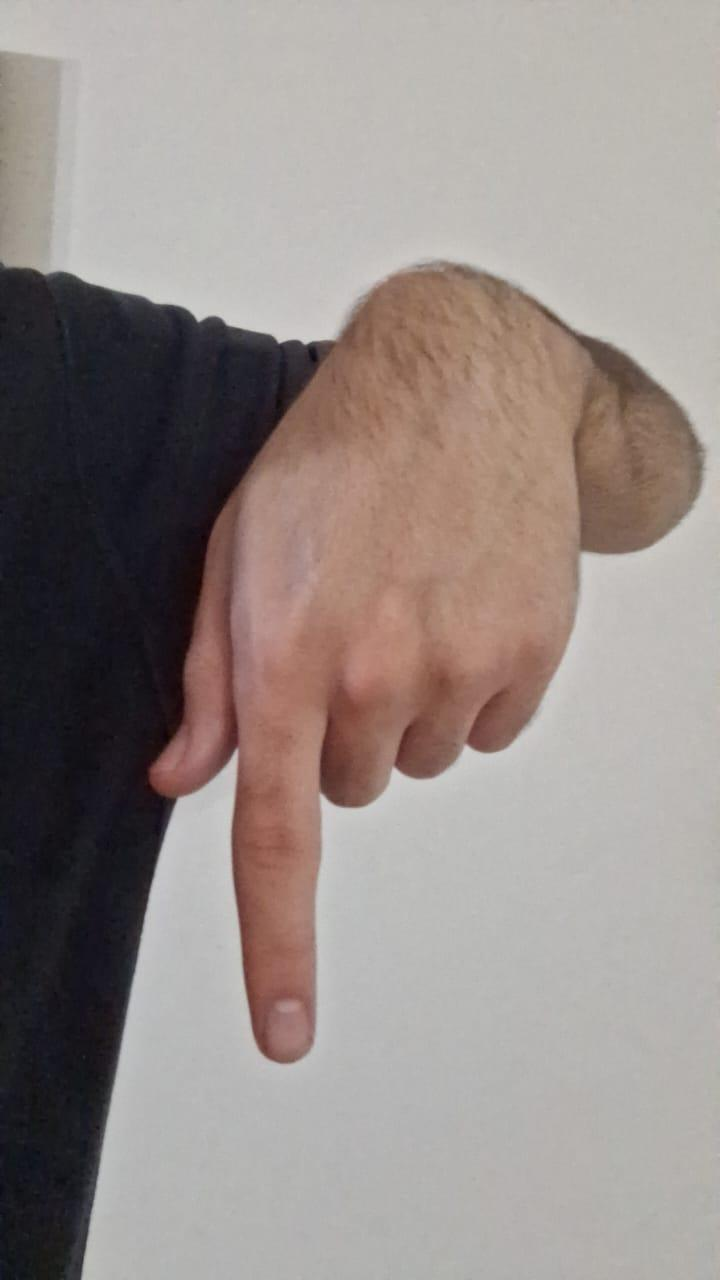Q: (140, 263, 583, 1077)
